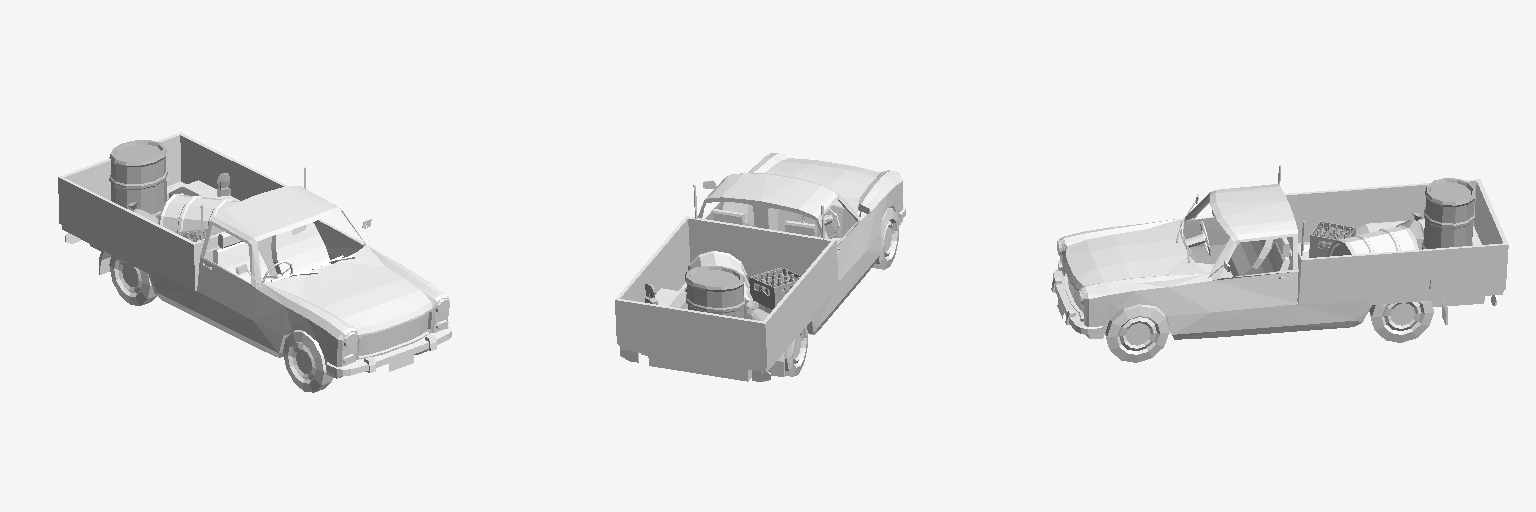
Rendered from cars.obj.
3 renders of one model, left to right at view 1: azimuth 30°, elevation 25°; view 2: azimuth 150°, elevation 25°; view 3: azimuth 270°, elevation 25°, orthographic.
Visible parts, largest first — view 1: DrawCall11 Mesh Mesh, DrawCall15 Mesh Mesh, DrawCall10 Mesh Mesh; view 2: DrawCall11 Mesh Mesh, DrawCall15 Mesh Mesh, DrawCall29 Mesh Mesh, DrawCall10 Mesh Mesh; view 3: DrawCall11 Mesh Mesh, DrawCall15 Mesh Mesh, DrawCall10 Mesh Mesh, DrawCall29 Mesh Mesh.
Part boxes in pixels (bbox=[...]): DrawCall11 Mesh Mesh: bbox=[58, 132, 451, 392]; DrawCall15 Mesh Mesh: bbox=[109, 140, 167, 219]; DrawCall10 Mesh Mesh: bbox=[158, 193, 240, 239]; DrawCall11 Mesh Mesh: bbox=[615, 152, 905, 381]; DrawCall15 Mesh Mesh: bbox=[685, 266, 745, 318]; DrawCall29 Mesh Mesh: bbox=[749, 267, 800, 309]; DrawCall10 Mesh Mesh: bbox=[688, 251, 752, 306]; DrawCall11 Mesh Mesh: bbox=[1051, 165, 1508, 362]; DrawCall15 Mesh Mesh: bbox=[1422, 178, 1475, 249]; DrawCall10 Mesh Mesh: bbox=[1327, 225, 1418, 256]; DrawCall29 Mesh Mesh: bbox=[1309, 221, 1355, 257].
Bounding box in the file's own units: 872 × 548 × 1758.